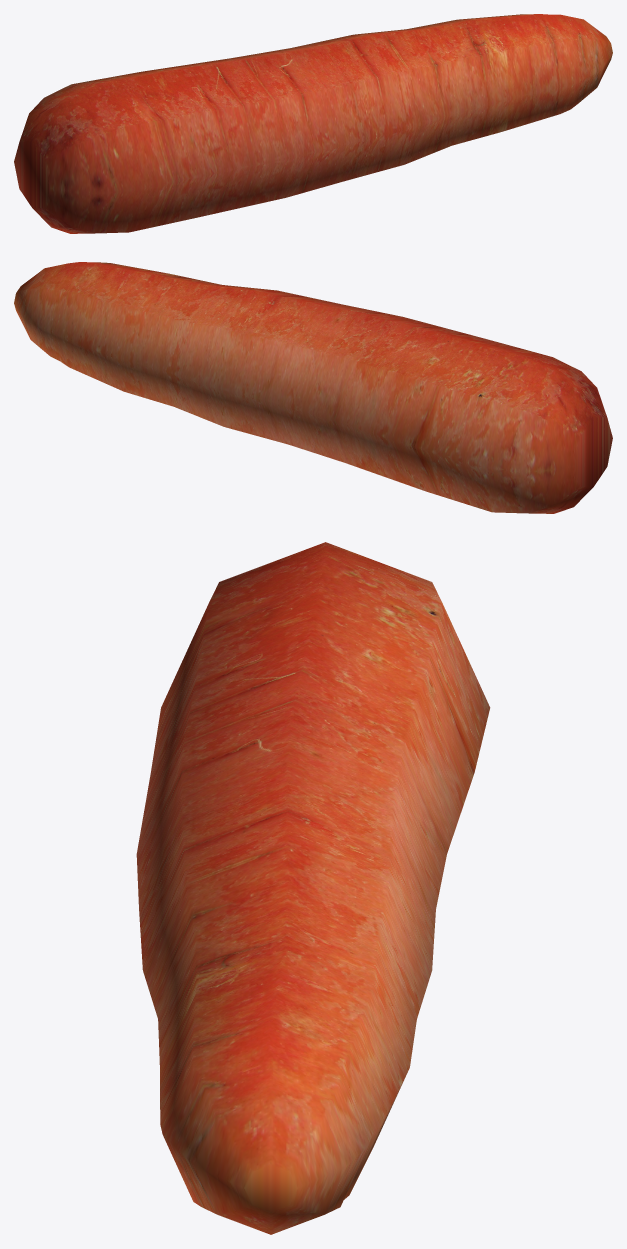
Rendered from carrot.fbx.
3 renders of one model, top to bottom at view 1: azimuth 30°, elevation 25°; view 2: azimuth 150°, elevation 25°; view 3: azimuth 270°, elevation 25°, orthographic. The views are drawn at different scales.
Parts seen in each view (by area): view 1: Cylinder; view 2: Cylinder; view 3: Cylinder.
Boxes of the visible parts, bbox=[...] form: Cylinder: bbox=[14, 14, 612, 233]; Cylinder: bbox=[14, 262, 612, 513]; Cylinder: bbox=[136, 542, 490, 1234].
Size of the model in its own units: 473 by 120 by 129.
